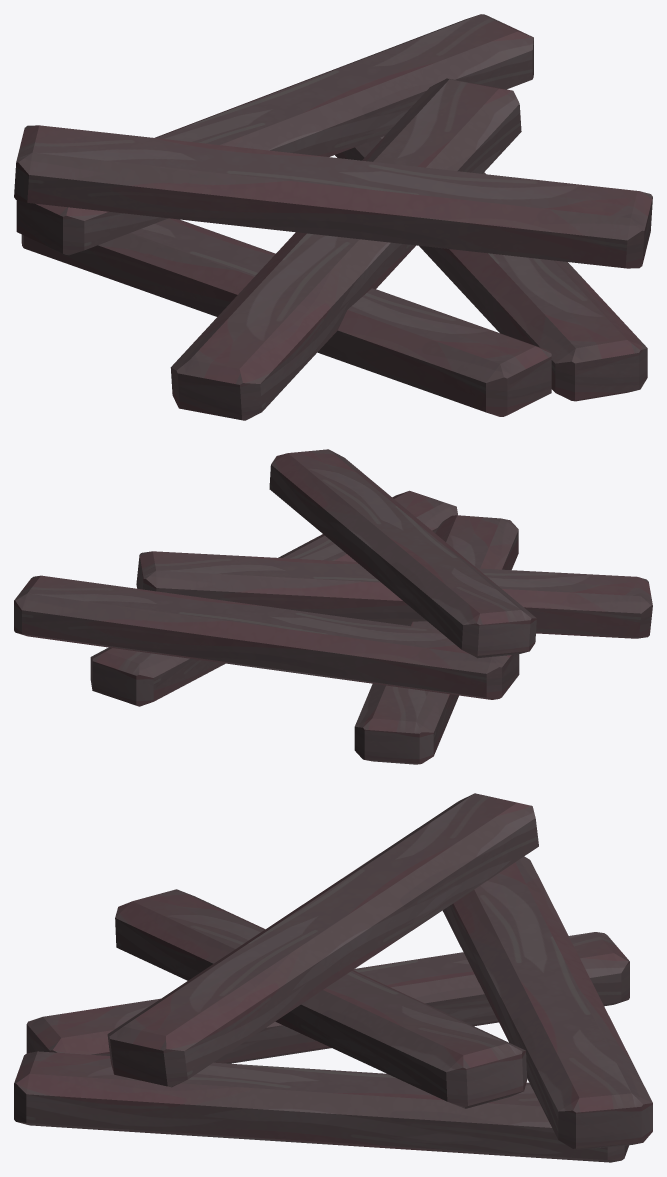
Rendered from Campfire.fbx.
The picture shows the model from 3 angles, top to bottom: view 1: azimuth 30°, elevation 25°; view 2: azimuth 150°, elevation 25°; view 3: azimuth 270°, elevation 25°; orthographic projection. The views are drawn at different scales.
Visible parts, largest first — view 1: campfire; view 2: campfire; view 3: campfire.
Part boxes in pixels (left/top/right/bottom): campfire: left=14, top=14, right=652, bottom=420; campfire: left=14, top=449, right=652, bottom=764; campfire: left=14, top=793, right=652, bottom=1162.
Bounding box in the file's own units: 146 × 41.09 × 147.
